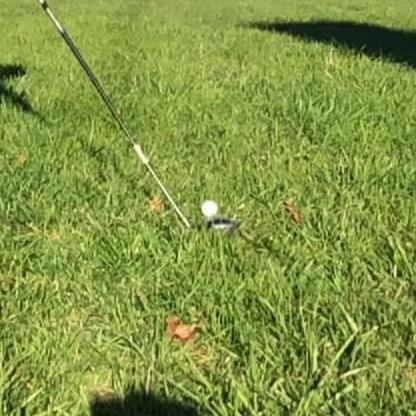golfball: (199, 198, 216, 217)
